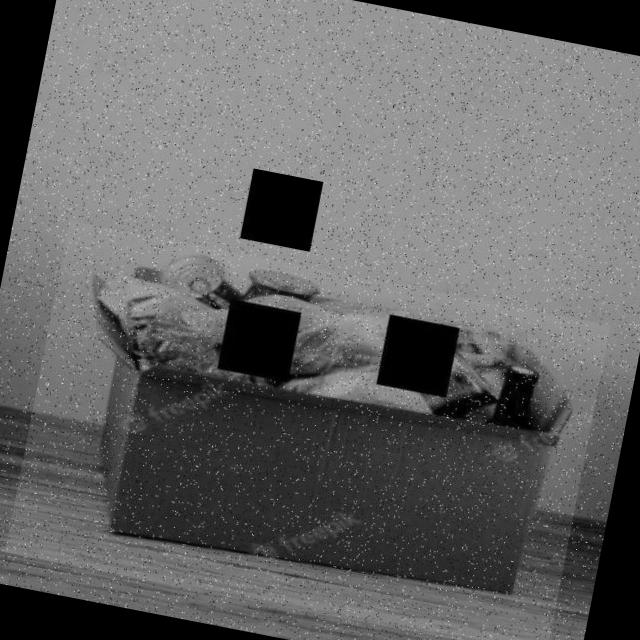box: (5, 220, 610, 640)
